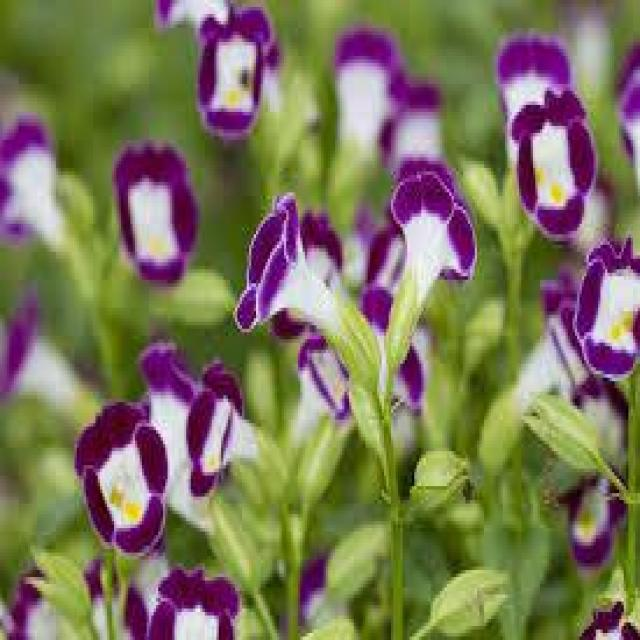organic waste: (77, 393, 172, 558), (230, 187, 330, 341), (510, 87, 602, 245), (120, 129, 201, 287), (388, 161, 479, 301), (184, 358, 254, 492), (575, 226, 635, 380), (146, 563, 238, 630)
